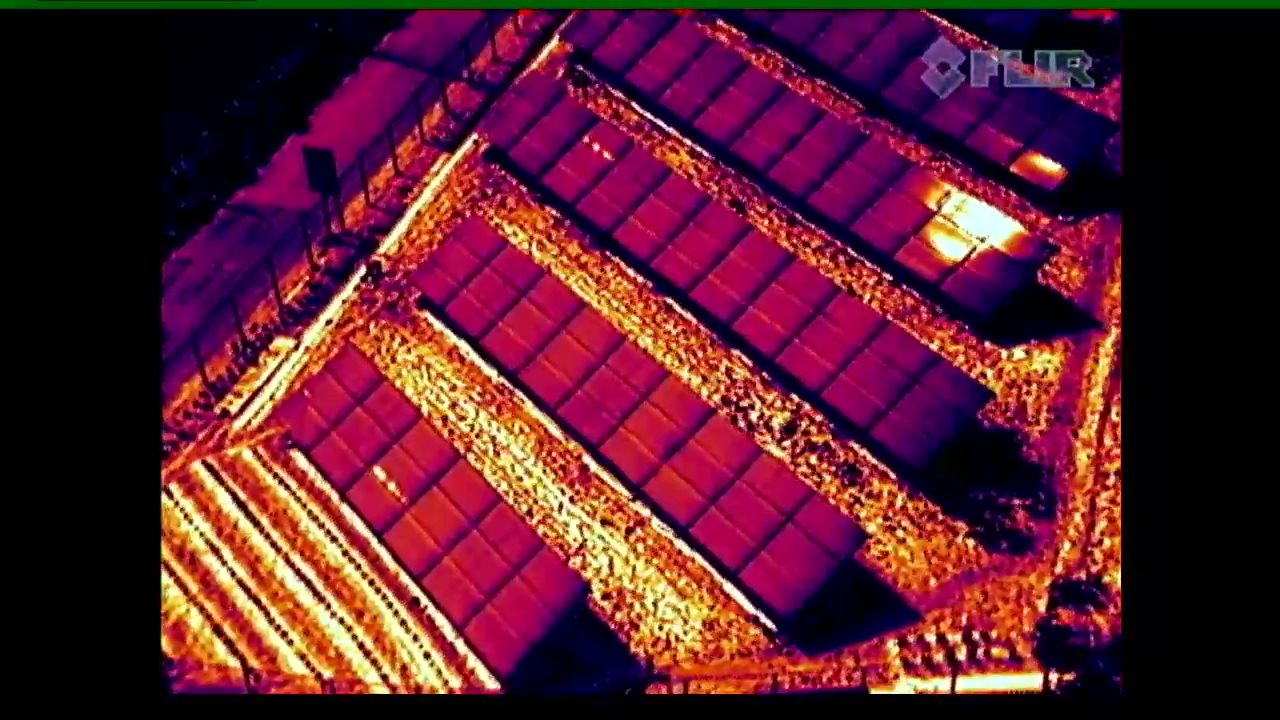hotspot: (333, 411, 464, 528), (536, 121, 633, 202)
